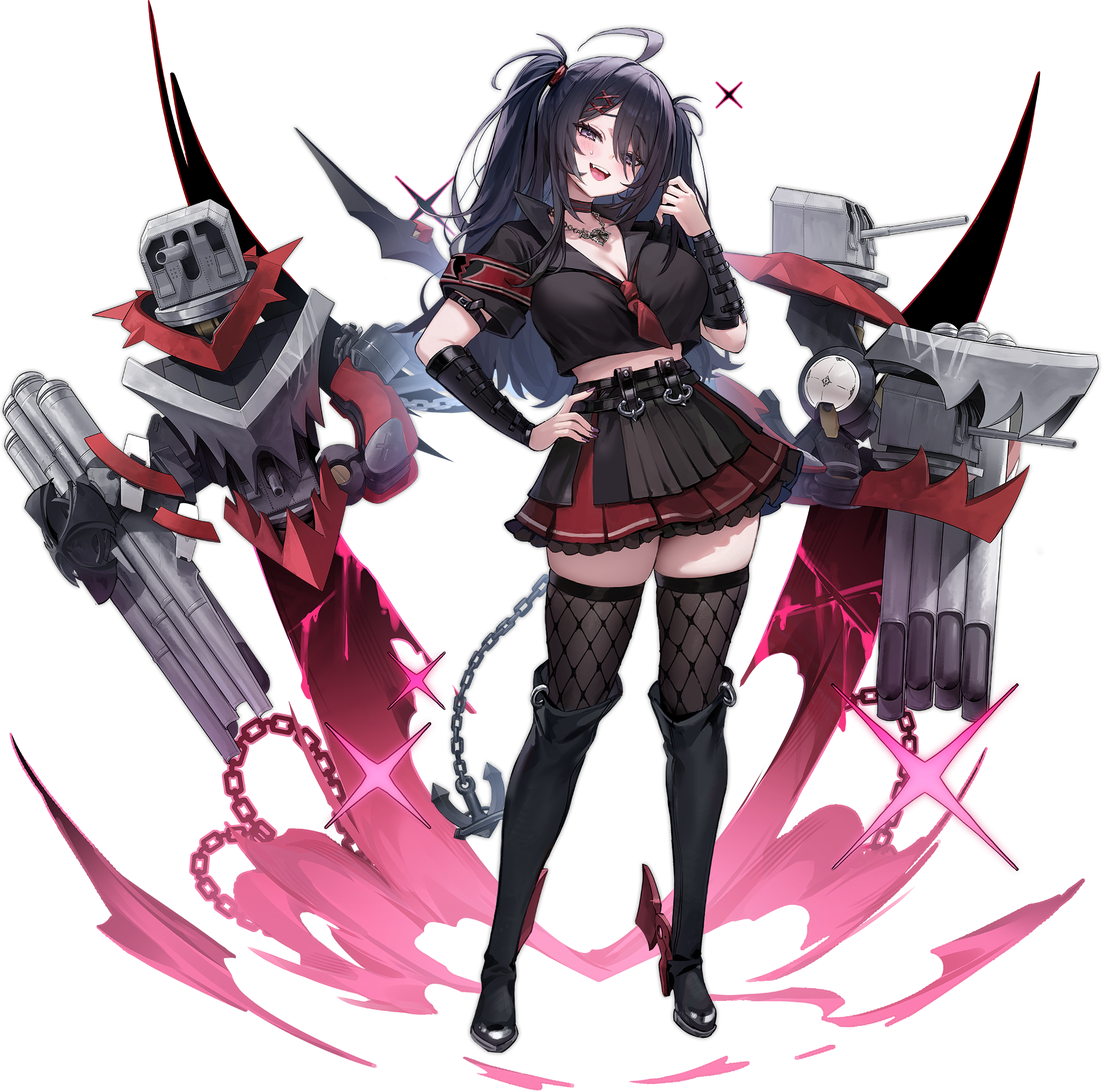person: (394, 8, 822, 1086)
